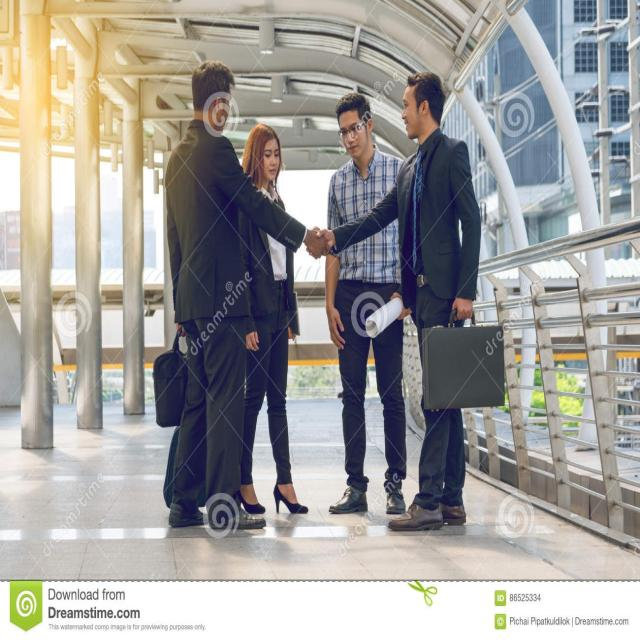body: (304, 69, 507, 535), (151, 57, 333, 532), (322, 90, 414, 517), (236, 122, 309, 516)
